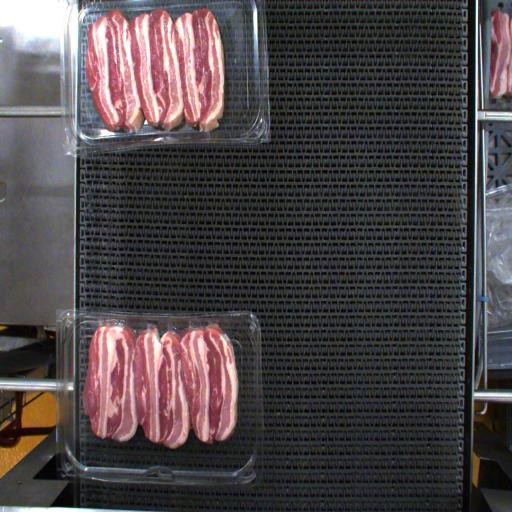packaging-error: (85, 317, 227, 339)
